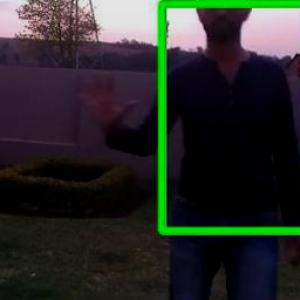follow_hand: (68, 63, 138, 129)
